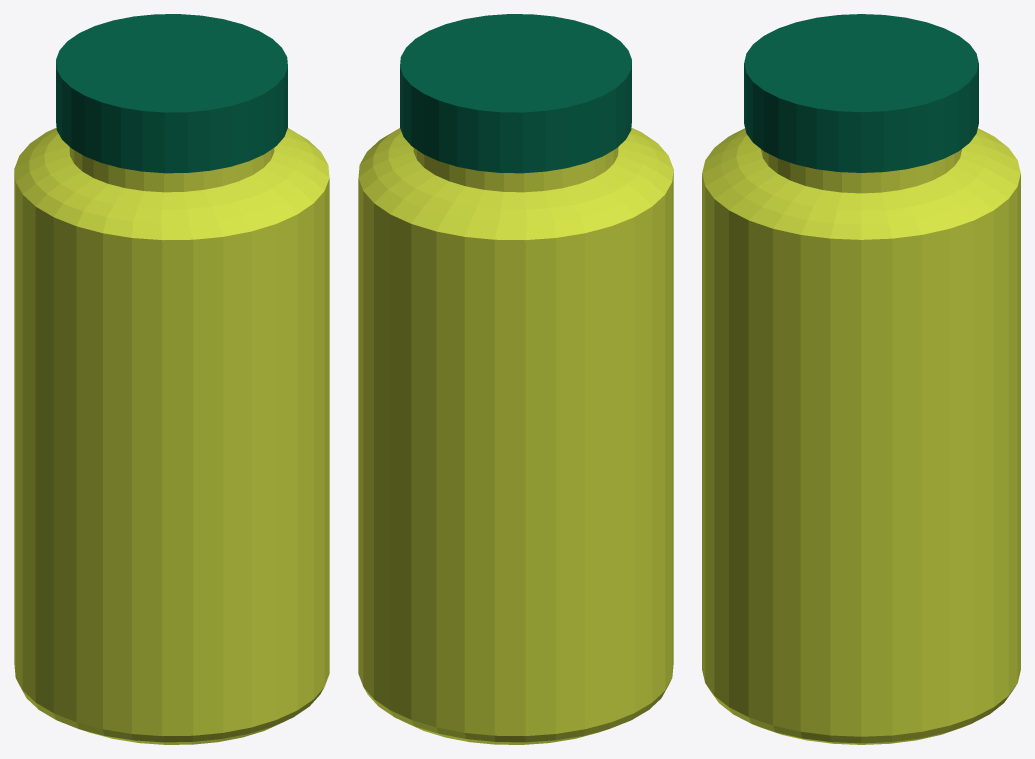
File: medicamentos.fbx
3 renders of one model, left to right at view 1: azimuth 30°, elevation 25°; view 2: azimuth 150°, elevation 25°; view 3: azimuth 270°, elevation 25°, orthographic.
Visible parts, largest first — view 1: medicamentos; view 2: medicamentos; view 3: medicamentos.
Part boxes in pixels (x1=…): medicamentos: x1=14, y1=14, x2=329, y2=744; medicamentos: x1=358, y1=14, x2=673, y2=744; medicamentos: x1=702, y1=14, x2=1020, y2=744.
Size of the model in its own units: 6.66 by 14.53 by 6.73.
